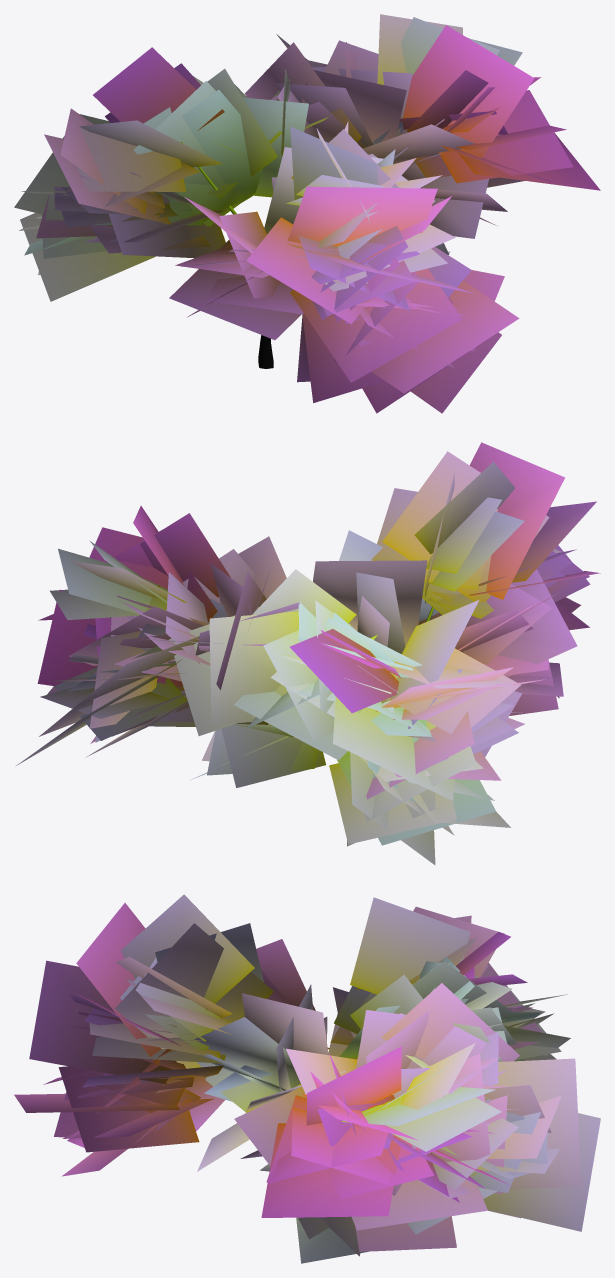
The model's file is tree_cherry_c_lod1.glb.
3 views of the same model, one above another, from view 1: azimuth 30°, elevation 25°; view 2: azimuth 150°, elevation 25°; view 3: azimuth 270°, elevation 25° (orthographic). The views are drawn at different scales.
Visible parts, largest first — view 1: tree_cherry_c_lod1; view 2: tree_cherry_c_lod1; view 3: tree_cherry_c_lod1.
Boxes of the visible parts, x1,y1,x2,y2 form: tree_cherry_c_lod1: (14,14,600,413); tree_cherry_c_lod1: (15,442,600,864); tree_cherry_c_lod1: (14,894,600,1263).
Bounding box in the file's own units: 15.82 × 9.42 × 16.78.
